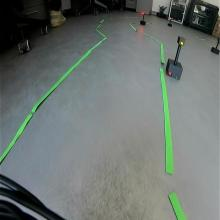green: (178, 36, 186, 46)
